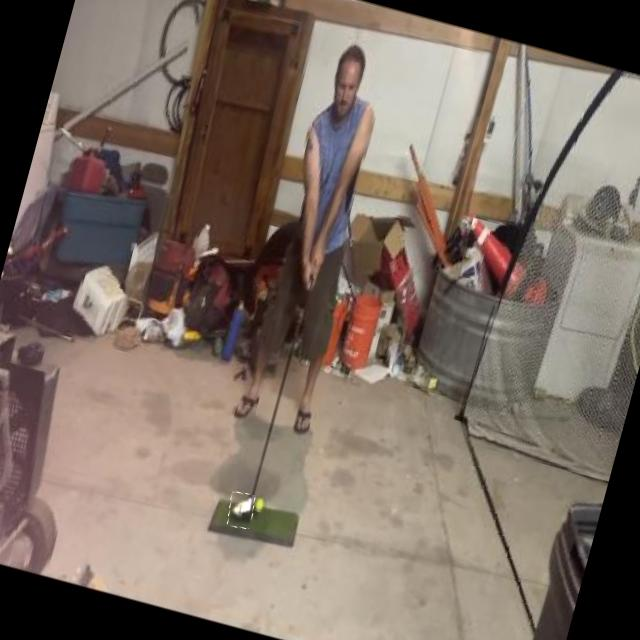club head: (224, 490, 257, 530)
